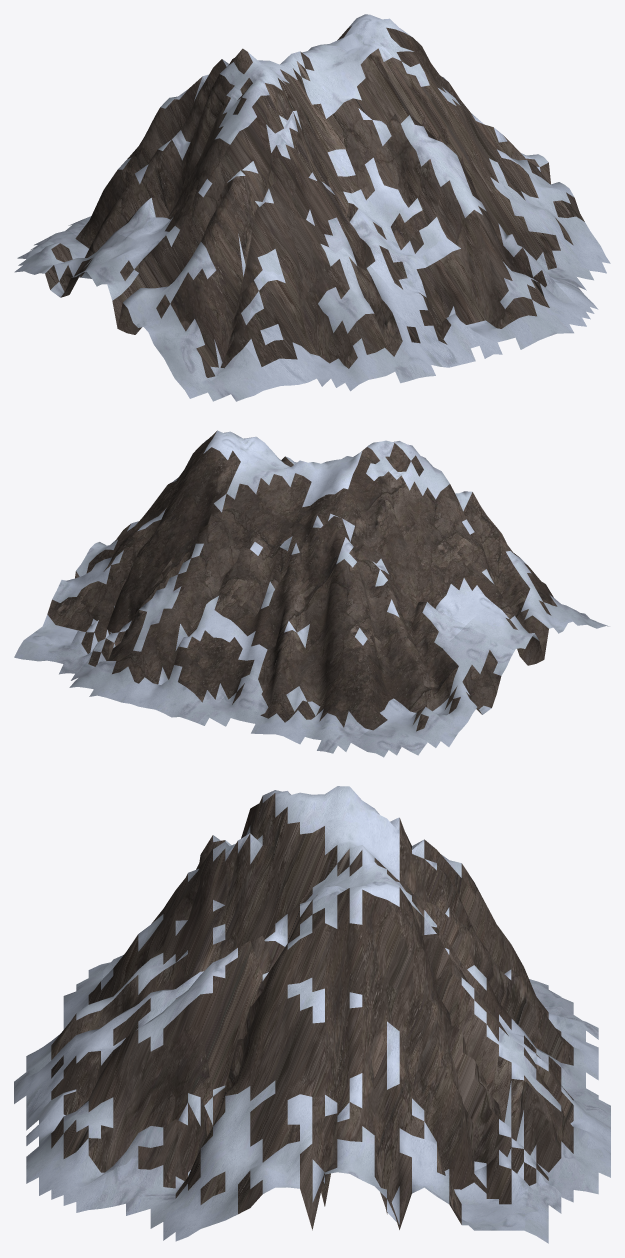
The model's file is border_peak_b_v5_winter.glb.
The picture shows the model from 3 angles, top to bottom: view 1: azimuth 30°, elevation 25°; view 2: azimuth 150°, elevation 25°; view 3: azimuth 270°, elevation 25°; orthographic projection. The views are drawn at different scales.
Visible parts, largest first — view 1: border_peak_b; view 2: border_peak_b; view 3: border_peak_b.
Part boxes in pixels (x1,y1,x2,y2): border_peak_b: (14, 14, 610, 401); border_peak_b: (14, 430, 609, 757); border_peak_b: (14, 786, 610, 1243).
Bounding box in the file's own units: 1 × 0.4988 × 0.9412.
2 materials, 2 textured.
